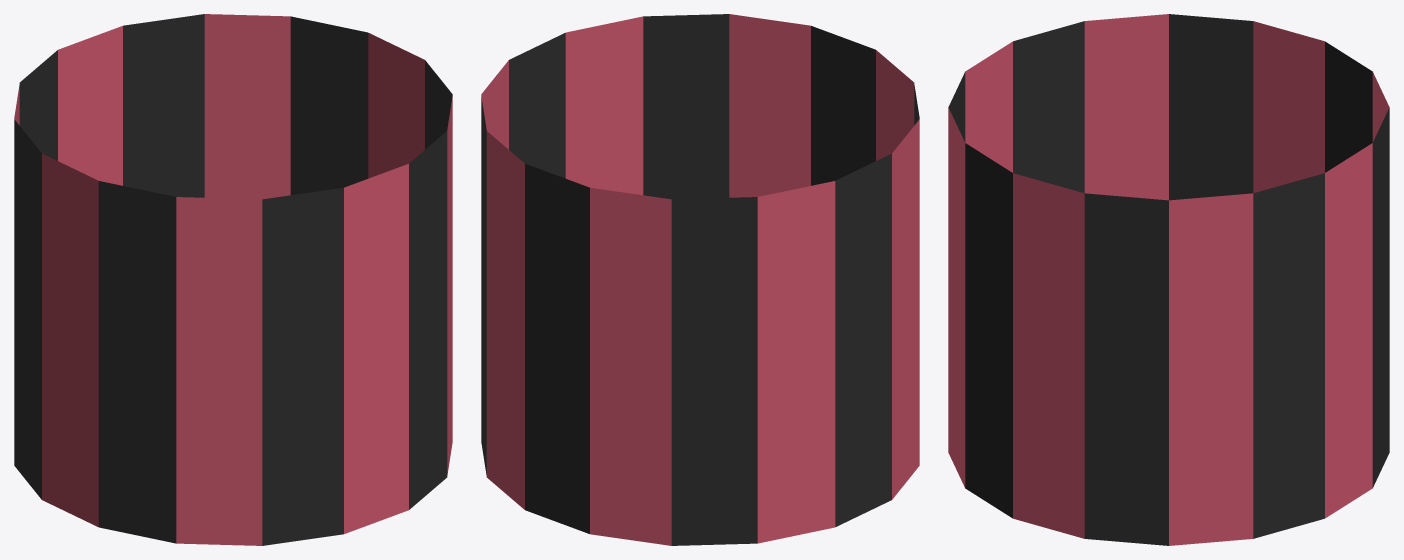
The model's file is gb_walls.fbx.
The picture shows the model from 3 angles, left to right: view 1: azimuth 30°, elevation 25°; view 2: azimuth 150°, elevation 25°; view 3: azimuth 270°, elevation 25°; orthographic projection.
Visible parts, largest first — view 1: gg_walls; view 2: gg_walls; view 3: gg_walls.
Boxes of the visible parts, bbox=[...] form: gg_walls: bbox=[14, 14, 452, 545]; gg_walls: bbox=[481, 14, 919, 545]; gg_walls: bbox=[948, 14, 1389, 545].
Size of the model in its own units: 5900 by 5100 by 5900.
